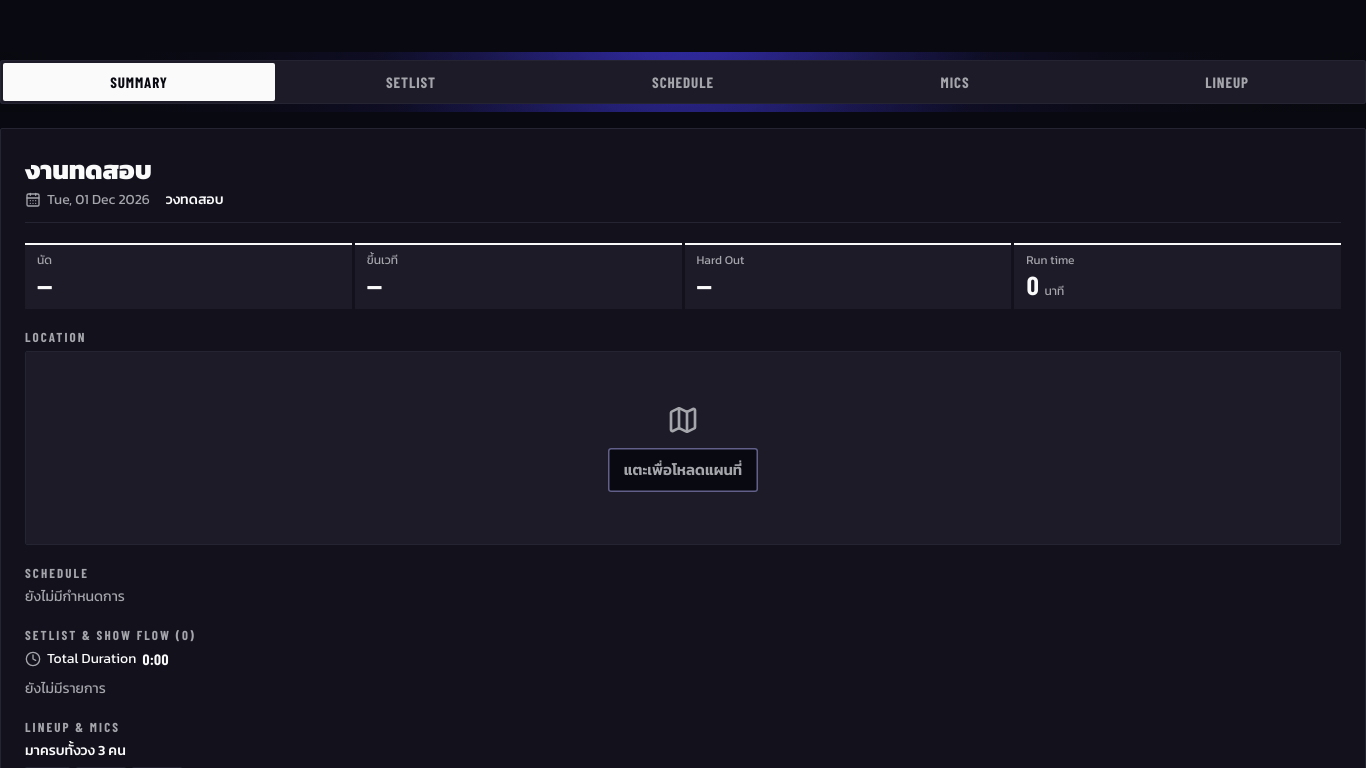
it: EventWorkspace · one live lineup for the Lineup, Mics and Summary tabs › the Summary shows the live lineup too, before a refresh has brought the saved one
Click the tab "Lineup" at (1227, 82), box left=1091, top=63, right=1363, bottom=101
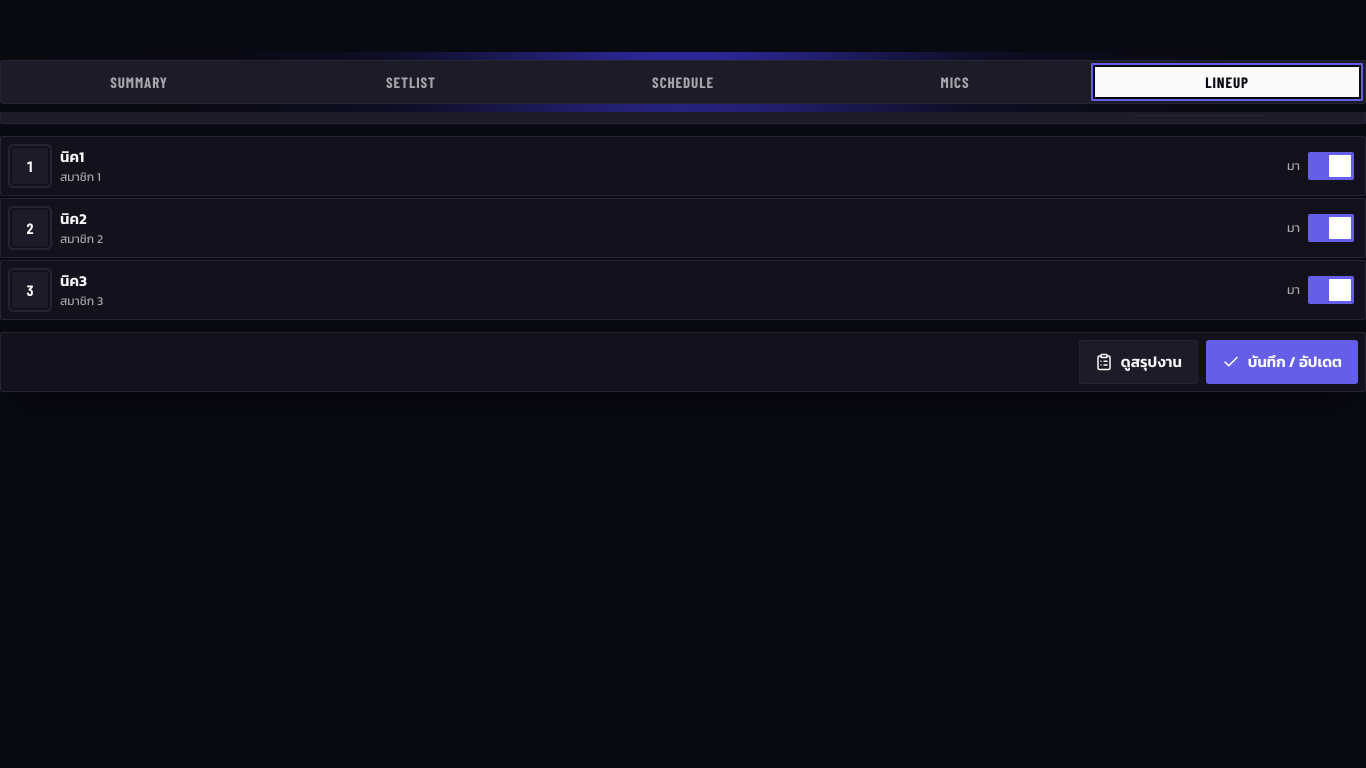
Click the button "2 นิค2 สมาชิก 2 มา" at (30, 228), box left=0, top=198, right=1365, bottom=258
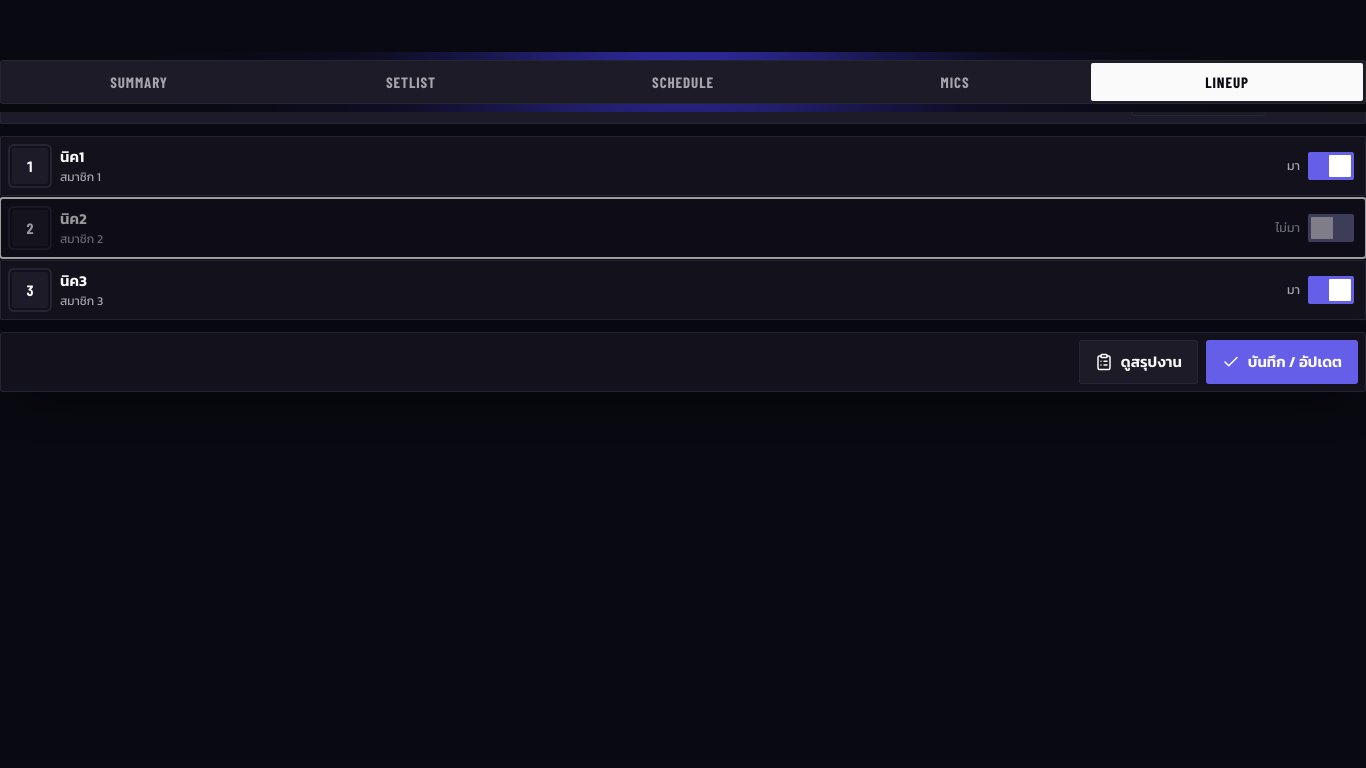
Click the tab "Summary" at (139, 82), box left=3, top=63, right=275, bottom=101
(page scrolled)
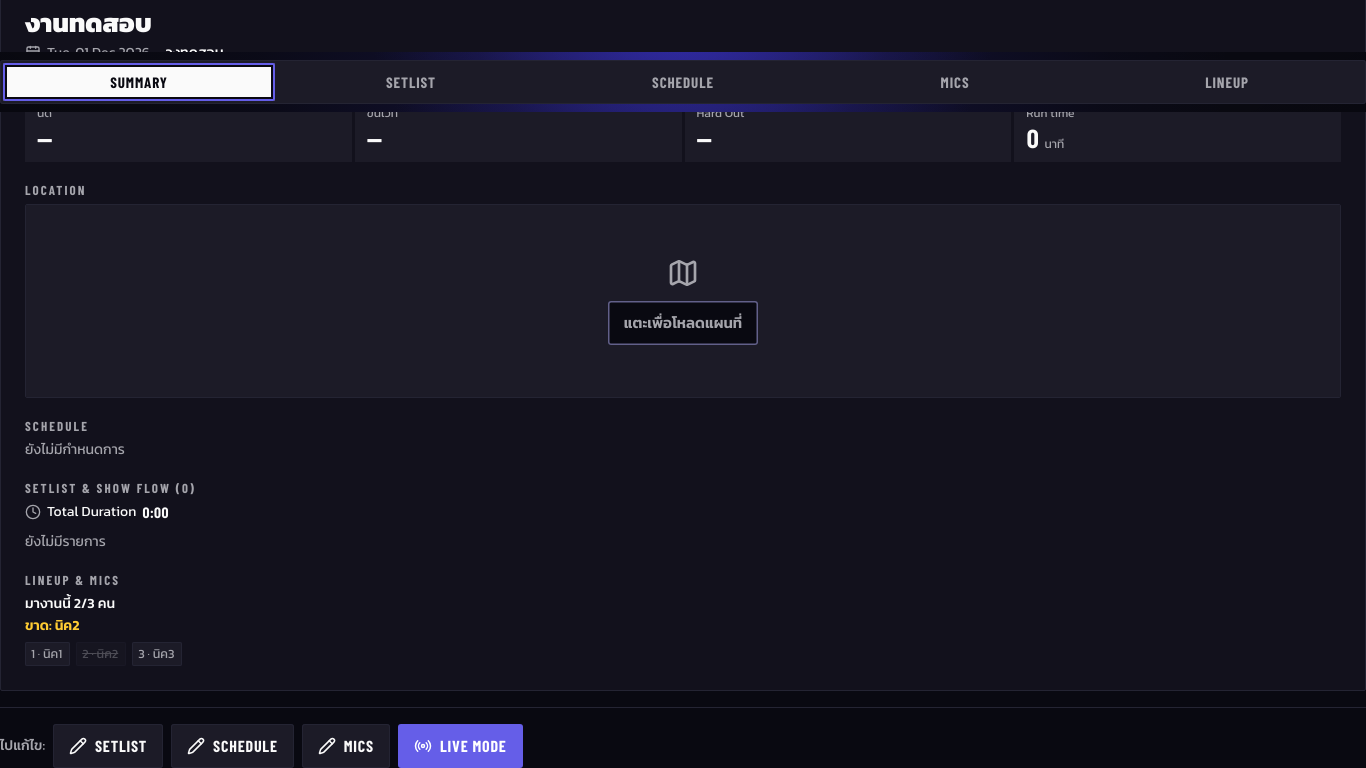
Check: the text "ขาด: นิค2" is shown, box left=25, top=615, right=80, bottom=636
